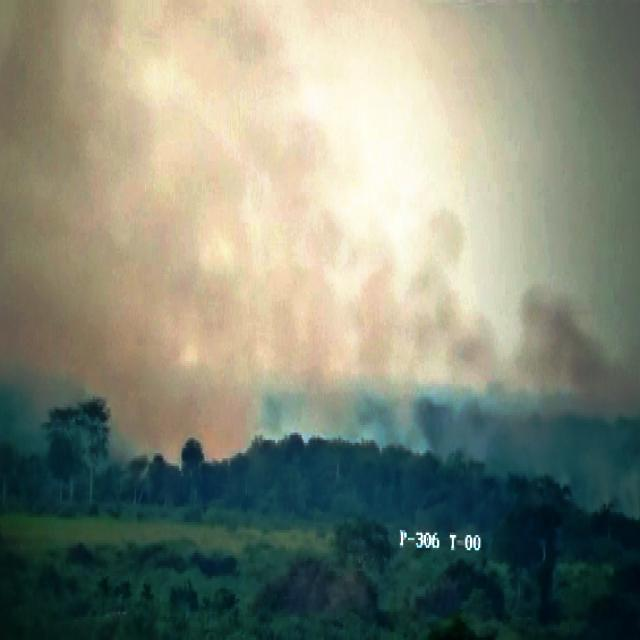asap: (1, 1, 285, 495), (243, 1, 441, 495), (413, 170, 640, 531)
